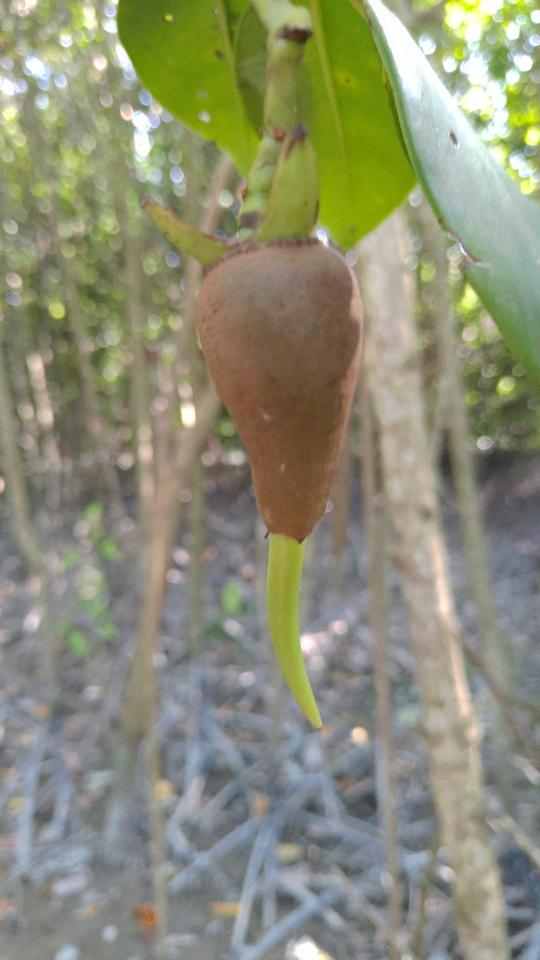mentah: (145, 132, 380, 747)
